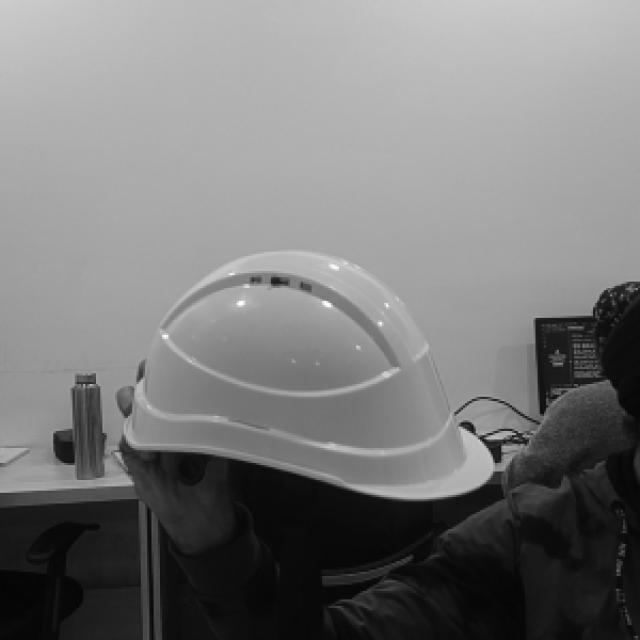safety_helmet: (123, 250, 494, 501)
